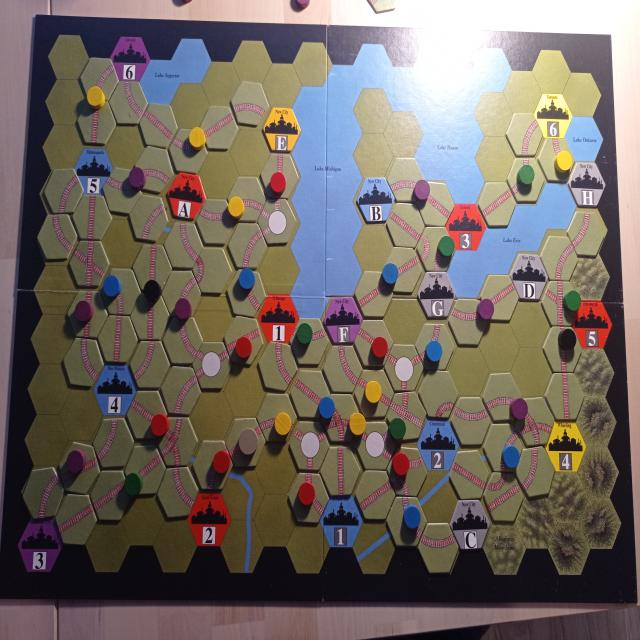10_0: (192, 342, 232, 389)
11_1: (288, 421, 329, 471), (384, 344, 424, 391)
12_5: (257, 199, 297, 244)
14_0: (354, 422, 396, 469)
15_0: (416, 226, 456, 272)
16_0: (167, 172, 206, 220)
17_0: (356, 177, 396, 223)
18_0: (449, 500, 490, 550)
19_0: (509, 253, 548, 300)
1_1: (418, 370, 458, 418)
1_5: (192, 248, 232, 294)
20_0: (263, 107, 301, 152)
21_0: (323, 297, 363, 344)
22_0: (417, 271, 456, 318)
23_0: (568, 162, 606, 207)
2_0: (256, 393, 297, 442), (482, 372, 522, 421), (135, 146, 174, 193), (227, 177, 266, 222), (231, 81, 269, 126), (387, 158, 425, 202)
2_1: (22, 467, 65, 519), (192, 440, 233, 490), (160, 270, 202, 317), (161, 366, 201, 415), (483, 423, 523, 472), (129, 195, 169, 242), (44, 168, 84, 214), (228, 222, 267, 268), (540, 236, 578, 282), (80, 57, 119, 101), (506, 112, 543, 156)
2_2: (156, 466, 199, 518), (288, 472, 329, 524), (386, 496, 427, 547), (63, 338, 104, 388), (258, 341, 298, 392), (162, 317, 204, 364), (36, 214, 78, 260), (163, 222, 204, 269), (323, 345, 363, 393), (227, 269, 266, 318), (108, 81, 148, 125), (538, 138, 576, 182)
2_3: (418, 522, 458, 574), (450, 396, 491, 446), (102, 167, 142, 215), (448, 298, 488, 346), (289, 318, 329, 365), (169, 128, 208, 174), (196, 199, 234, 245)
2_4: (514, 446, 555, 498), (92, 418, 134, 468), (130, 341, 170, 388), (414, 324, 454, 371), (566, 211, 605, 257), (506, 157, 545, 202)
2_5: (101, 268, 141, 316)
3_0: (124, 444, 166, 496), (58, 442, 100, 494), (55, 494, 97, 546), (90, 470, 132, 521), (354, 470, 396, 520), (225, 418, 266, 467), (224, 316, 264, 364), (479, 274, 519, 321), (354, 271, 394, 317), (383, 247, 422, 293), (478, 182, 516, 227), (200, 106, 238, 150)
3_1: (67, 290, 108, 339), (320, 446, 360, 496), (130, 293, 171, 341), (97, 315, 138, 363), (72, 194, 113, 241), (132, 245, 172, 292), (544, 373, 584, 420), (542, 326, 582, 373), (260, 153, 299, 199), (77, 101, 116, 145)
3_2: (126, 391, 168, 439), (449, 450, 489, 500), (290, 370, 330, 419), (354, 370, 394, 418), (354, 319, 393, 366), (386, 202, 425, 248), (139, 103, 178, 148), (416, 181, 454, 227)
4_4: (482, 472, 524, 522)
5_0: (387, 447, 428, 498)
7_0: (321, 393, 361, 443), (515, 396, 554, 446)
7_5: (156, 417, 198, 466)
8_5: (386, 391, 427, 441)
9_2: (69, 240, 110, 287), (541, 280, 579, 326)
